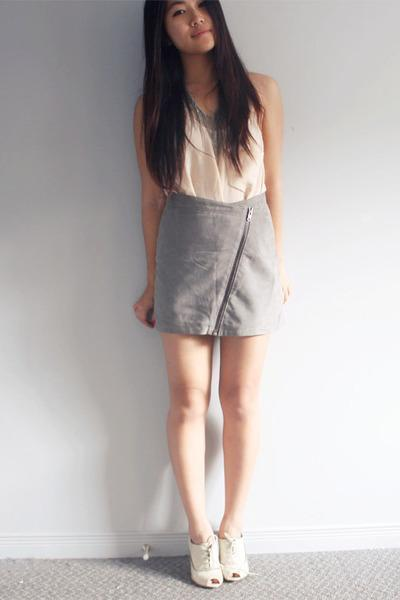shirt: (181, 113, 265, 202)
shoe: (173, 520, 239, 586)
skirt: (146, 171, 269, 347)
